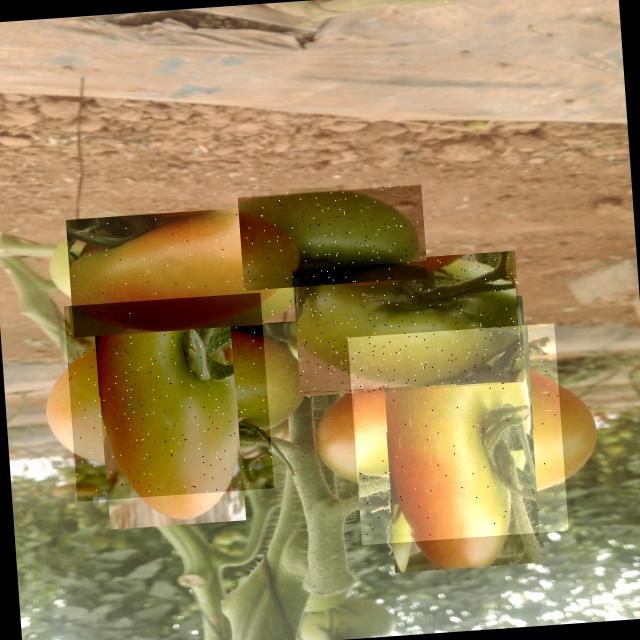Unripe Tomato: (348, 322, 568, 544), (64, 293, 274, 502), (291, 250, 524, 398), (65, 204, 297, 337), (237, 181, 427, 290)
